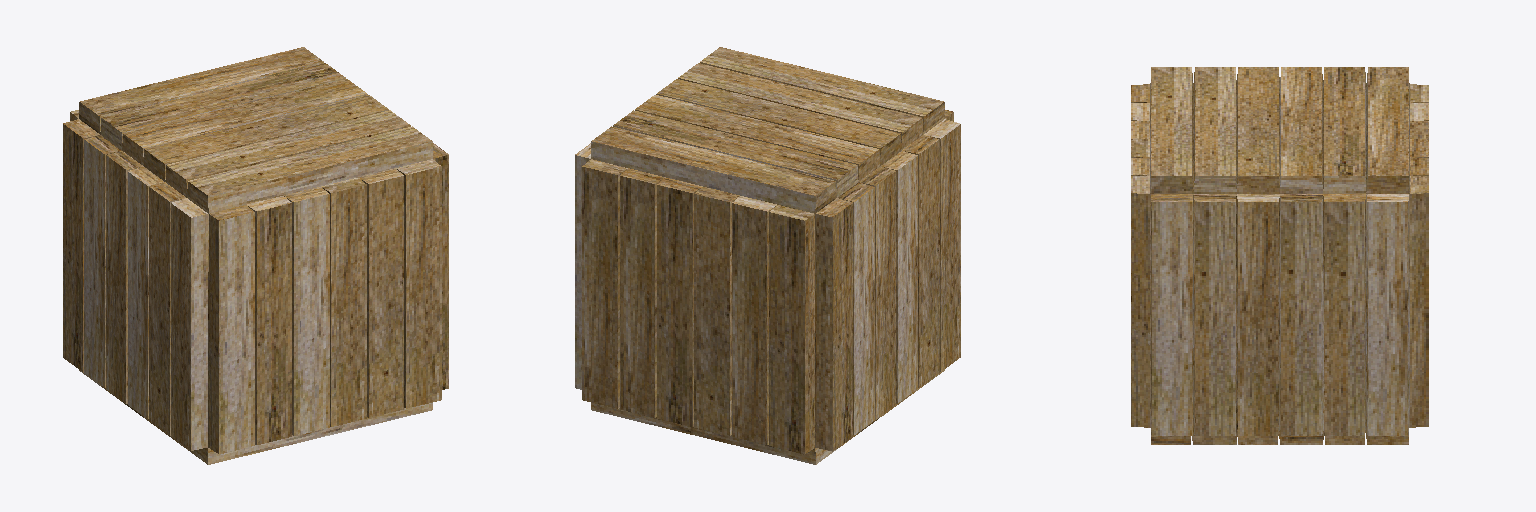
3 views of the same model, side by side, from view 1: azimuth 30°, elevation 25°; view 2: azimuth 150°, elevation 25°; view 3: azimuth 270°, elevation 25° (orthographic).
Visible parts, largest first — view 1: Box001; view 2: Box001; view 3: Box001.
Boxes of the visible parts, x1=… form: Box001: x1=63, y1=47, x2=448, y2=464; Box001: x1=575, y1=47, x2=960, y2=464; Box001: x1=1131, y1=67, x2=1428, y2=444.
Size of the model in its own units: 15.3 by 15.25 by 15.3.
1 materials, 1 textured.